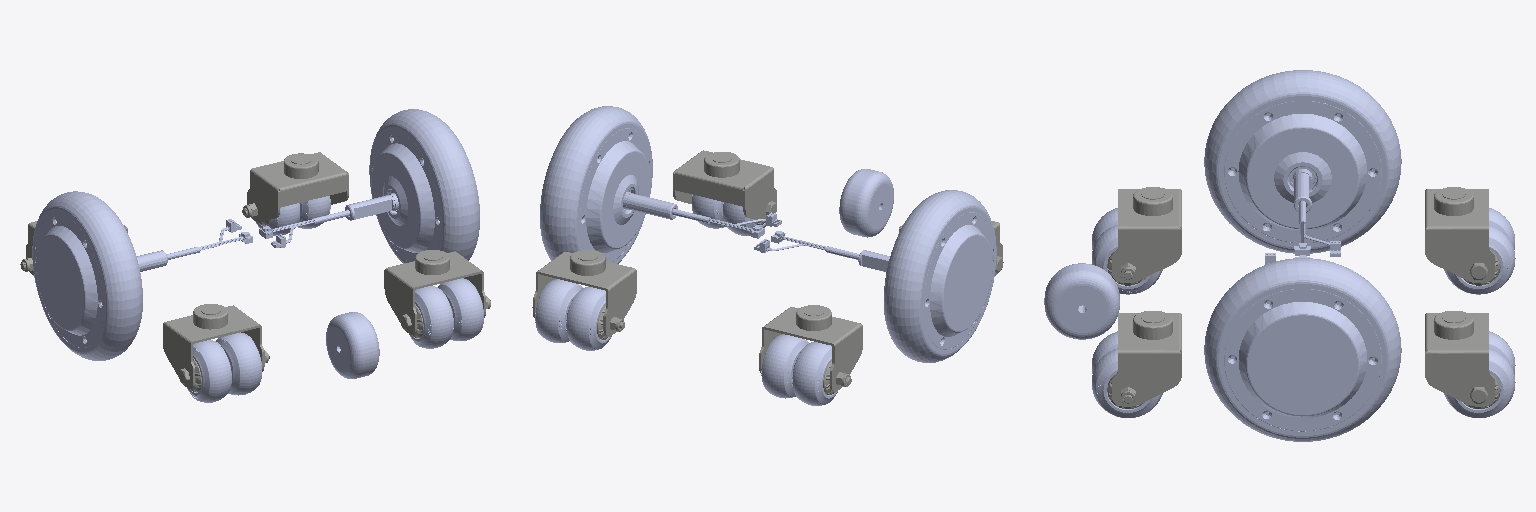
robot.urdf — apollo_2_0:
<?xml version="1.0" encoding="utf-8"?>
<!-- This URDF was automatically created by SolidWorks to URDF Exporter! Originally created by [author] ([email redacted]) 
     Commit Version: 1.6.0-4-g7f85cfe  Build Version: 1.6.7995.38578
     For more information, please see http://wiki.ros.org/sw_urdf_exporter -->
<robot
  name="apollo_2_0">
  <joint name="base_footprint_joint" type="fixed">
        <parent link="base_link"/>
        <child link="base_footprint"/>
        <origin xyz="0 0 0" rpy="0 0 -1.5708"/>            <!--Correcting the front side of the robot-->
    </joint>

  <link name="base_footprint"></link>
    
  <link
    name="base_link">
    <inertial>
      <origin
        xyz="-0.000251634559923452 -0.00489161046227445 0.176189848701967"
        rpy="0 0 0" />
      <mass
        value="5.39183386142453" />
      <inertia
        ixx="0.0653015701694035"
        ixy="-8.64253723115378E-06"
        ixz="-6.51180990379735E-06"
        iyy="0.0942320250294485"
        iyz="0.000637337135491754"
        izz="0.149833933937034" />
    </inertial>
    <visual>
      <origin
        xyz="0 0 0"
        rpy="0 0 0" />
      <geometry>
        <mesh
          filename="package://apollo_2_0/meshes/base_link.STL" />
      </geometry>
      <material
        name="">
        <color
          rgba="0.792156862745098 0.819607843137255 0.933333333333333 1" />
      </material>
    </visual>
    <collision>
      <origin
        xyz="0 0 0"
        rpy="0 0 0" />
      <geometry>
        <mesh
          filename="package://apollo_2_0/meshes/base_link.STL" />
      </geometry>
    </collision>
  </link>
  <link
    name="right_wheel">
    <inertial>
      <origin
        xyz="0.00126496874699064 4.06522492759047E-05 -1.13591736248461E-05"
        rpy="0 0 0" />
      <mass
        value="0.909836388239155" />
      <inertia
        ixx="0.00274407833875377"
        ixy="2.25881499386519E-07"
        ixz="-5.42429356552384E-09"
        iyy="0.00146592296633533"
        iyz="2.8800515088264E-11"
        izz="0.00146592879898653" />
    </inertial>
    <visual>
      <origin
        xyz="0 0 0"
        rpy="0 0 0" />
      <geometry>
        <mesh
          filename="package://apollo_2_0/meshes/left_wheel.STL" />
      </geometry>
      <material
        name="">
        <color
          rgba="0.792156862745098 0.819607843137255 0.933333333333333 1" />
      </material>
    </visual>
    <collision>
      <origin
        xyz="0 0 0"
        rpy="0 0 0" />
      <geometry>
        <mesh
          filename="package://apollo_2_0/meshes/left_wheel.STL" />
      </geometry>
    </collision>
  </link>
  <joint
    name="rw"
    type="continuous">
    <origin
      xyz="-0.1915 0 0.084999"
      rpy="0 0 0" />
    <parent
      link="base_link" />
    <child
      link="right_wheel" />
    <axis
      xyz="1 0 0" />
  </joint>
  <link
    name="left_wheel">
    <inertial>
      <origin
        xyz="-0.00126496985318234 -4.06511032513012E-05 -1.13612112264821E-05"
        rpy="0 0 0" />
      <mass
        value="0.909836337893845" />
      <inertia
        ixx="0.0027440782430291"
        ixy="2.25879298478987E-07"
        ixz="5.42818709832004E-09"
        iyy="0.00146592289358935"
        iyz="-6.96161465323051E-11"
        izz="0.0014659287755659" />
    </inertial>
    <visual>
      <origin
        xyz="0 0 0"
        rpy="0 0 0" />
      <geometry>
        <mesh
          filename="package://apollo_2_0/meshes/right_wheel.STL" />
      </geometry>
      <material
        name="">
        <color
          rgba="0.792156862745098 0.819607843137255 0.933333333333333 1" />
      </material>
    </visual>
    <collision>
      <origin
        xyz="0 0 0"
        rpy="0 0 0" />
      <geometry>
        <mesh
          filename="package://apollo_2_0/meshes/right_wheel.STL" />
      </geometry>
    </collision>
  </link>
  <joint
    name="lw"
    type="continuous">
    <origin
      xyz="0.1915 0 0.084999"
      rpy="0 0 0" />
    <parent
      link="base_link" />
    <child
      link="left_wheel" />
    <axis
      xyz="1 0 0" />
  </joint>
  <link
    name="front_wheel">
    <inertial>
      <origin
        xyz="-4.72988234130956E-18 2.77555756156289E-17 0"
        rpy="0 0 0" />
      <mass
        value="0.0966099959149694" />
      <inertia
        ixx="4.8508259037204E-05"
        ixy="-4.09399257839579E-22"
        ixz="1.3733482210909E-22"
        iyy="3.16338885532163E-05"
        iyz="4.37633689414722E-22"
        izz="3.16338885532163E-05" />
    </inertial>
    <visual>
      <origin
        xyz="0 0 0"
        rpy="0 0 0" />
      <geometry>
        <mesh
          filename="package://apollo_2_0/meshes/front_wheel.STL" />
      </geometry>
      <material
        name="">
        <color
          rgba="0.792156862745098 0.819607843137255 0.933333333333333 1" />
      </material>
    </visual>
    <collision>
      <origin
        xyz="0 0 0"
        rpy="0 0 0" />
      <geometry>
        <mesh
          filename="package://apollo_2_0/meshes/front_wheel.STL" />
      </geometry>
    </collision>
  </link>
  <joint
    name="fw"
    type="continuous">
    <origin
      xyz="0 -0.19 0.04179"
      rpy="0 0 0" />
    <parent
      link="base_link" />
    <child
      link="front_wheel" />
    <axis
      xyz="1 0 0" />
  </joint>
  <link
    name="castor_wheel_1">
    <inertial>
      <origin
        xyz="0.000420363773674909 -0.00908122961024421 -0.034311189949967"
        rpy="0 0 0" />
      <mass
        value="0.0540669980927754" />
      <inertia
        ixx="1.78511368330048E-05"
        ixy="-2.00632174983049E-09"
        ixz="1.11396792287673E-09"
        iyy="3.91611994966722E-05"
        iyz="-1.46337604915237E-06"
        izz="4.11536949075926E-05" />
    </inertial>
    <visual>
      <origin
        xyz="0 0 0"
        rpy="0 0 0" />
      <geometry>
        <mesh
          filename="package://apollo_2_0/meshes/castor_wheel_1.STL" />
      </geometry>
      <material
        name="">
        <color
          rgba="0.666666666666667 0.666666666666667 0.654901960784314 1" />
      </material>
    </visual>
    <collision>
      <origin
        xyz="0 0 0"
        rpy="0 0 0" />
      <geometry>
        <mesh
          filename="package://apollo_2_0/meshes/castor_wheel_1.STL" />
      </geometry>
    </collision>
  </link>
  <joint
    name="castorwheel1top"
    type="continuous">
    <origin
      xyz="0.126 -0.129 0.0852"
      rpy="0 0 0" />
    <parent
      link="base_link" />
    <child
      link="castor_wheel_1" />
    <axis
      xyz="0 0 -1" />
    <dynamics damping="0.02" friction="0.02"/>
  </joint>
  <link
    name="castor_wheel_1_wheel">
    <inertial>
      <origin
        xyz="-1.35554900637658E-11 -3.58349909079791E-07 -2.10336712023335E-09"
        rpy="0 0 0" />
      <mass
        value="0.151688158407235" />
      <inertia
        ixx="7.27266749297572E-05"
        ixy="1.85681267293845E-12"
        ixz="-3.08329322182269E-10"
        iyy="4.52531429305757E-05"
        iyz="-2.57653716208225E-10"
        izz="4.52956309660314E-05" />
    </inertial>
    <visual>
      <origin
        xyz="0 0 0"
        rpy="0 0 0" />
      <geometry>
        <mesh
          filename="package://apollo_2_0/meshes/castor_wheel_1_wheel.STL" />
      </geometry>
      <material
        name="">
        <color
          rgba="0.792156862745098 0.819607843137255 0.933333333333333 1" />
      </material>
    </visual>
    <collision>
      <origin
        xyz="0 0 0"
        rpy="0 0 0" />
      <geometry>
        <mesh
          filename="package://apollo_2_0/meshes/castor_wheel_1_wheel.STL" />
      </geometry>
    </collision>
  </link>
  <joint
    name="castorwheel1wheel"
    type="continuous">
    <origin
      xyz="0 -0.0215 -0.05365"
      rpy="0 0 0" />
    <parent
      link="castor_wheel_1" />
    <child
      link="castor_wheel_1_wheel" />
    <axis
      xyz="1 0 0" />
  </joint>
  <link
    name="castor_wheel_2">
    <inertial>
      <origin
        xyz="0.000420363773674826 -0.00908122961024424 -0.0343111899499671"
        rpy="0 0 0" />
      <mass
        value="0.0540669980927752" />
      <inertia
        ixx="1.78511368330048E-05"
        ixy="-2.00632174983419E-09"
        ixz="1.11396792290523E-09"
        iyy="3.91611994966721E-05"
        iyz="-1.46337604915237E-06"
        izz="4.11536949075924E-05" />
    </inertial>
    <visual>
      <origin
        xyz="0 0 0"
        rpy="0 0 0" />
      <geometry>
        <mesh
          filename="package://apollo_2_0/meshes/castor_wheel_2.STL" />
      </geometry>
      <material
        name="">
        <color
          rgba="0.666666666666667 0.666666666666667 0.654901960784314 1" />
      </material>
    </visual>
    <collision>
      <origin
        xyz="0 0 0"
        rpy="0 0 0" />
      <geometry>
        <mesh
          filename="package://apollo_2_0/meshes/castor_wheel_2.STL" />
      </geometry>
    </collision>
  </link>
  <joint
    name="castorwheel2top"
    type="continuous">
    <origin
      xyz="-0.126 -0.129 0.0852"
      rpy="0 0 0" />
    <parent
      link="base_link" />
    <child
      link="castor_wheel_2" />
    <axis
      xyz="0 0 -1" />
    <dynamics damping="0.02" friction="0.02"/>
  </joint>
  <link
    name="castor_wheel_2_wheel">
    <inertial>
      <origin
        xyz="-1.38122846493616E-11 -2.1034017028132E-09 3.58349746725287E-07"
        rpy="0 0 0" />
      <mass
        value="0.151688158408623" />
      <inertia
        ixx="7.2726674930244E-05"
        ixy="-3.08329382306512E-10"
        ixz="-1.85709610483703E-12"
        iyy="4.52956309666694E-05"
        iyz="2.57653617253462E-10"
        izz="4.5253142930769E-05" />
    </inertial>
    <visual>
      <origin
        xyz="0 0 0"
        rpy="0 0 0" />
      <geometry>
        <mesh
          filename="package://apollo_2_0/meshes/castor_wheel_2_wheel.STL" />
      </geometry>
      <material
        name="">
        <color
          rgba="0.792156862745098 0.819607843137255 0.933333333333333 1" />
      </material>
    </visual>
    <collision>
      <origin
        xyz="0 0 0"
        rpy="0 0 0" />
      <geometry>
        <mesh
          filename="package://apollo_2_0/meshes/castor_wheel_2_wheel.STL" />
      </geometry>
    </collision>
  </link>
  <joint
    name="castorwheel2wheel"
    type="continuous">
    <origin
      xyz="0 -0.0215 -0.05365"
      rpy="0 0 0" />
    <parent
      link="castor_wheel_2" />
    <child
      link="castor_wheel_2_wheel" />
    <axis
      xyz="1 0 0" />
  </joint>
  <link
    name="castor_wheel_3">
    <inertial>
      <origin
        xyz="-0.000420361795312657 0.00908123288506413 -0.0343111899499671"
        rpy="0 0 0" />
      <mass
        value="0.0540669980927752" />
      <inertia
        ixx="1.78511368330048E-05"
        ixy="-2.00632174983138E-09"
        ixz="-1.11460786701919E-09"
        iyy="3.91611994966721E-05"
        iyz="1.4633762781936E-06"
        izz="4.11536949075924E-05" />
    </inertial>
    <visual>
      <origin
        xyz="0 0 0"
        rpy="0 0 0" />
      <geometry>
        <mesh
          filename="package://apollo_2_0/meshes/castor_wheel_3.STL" />
      </geometry>
      <material
        name="">
        <color
          rgba="0.666666666666667 0.666666666666667 0.654901960784314 1" />
      </material>
    </visual>
    <collision>
      <origin
        xyz="0 0 0"
        rpy="0 0 0" />
      <geometry>
        <mesh
          filename="package://apollo_2_0/meshes/castor_wheel_3.STL" />
      </geometry>
    </collision>
  </link>
  <joint
    name="castorwheel3top"
    type="continuous">
    <origin
      xyz="0.126 0.13 0.0852"
      rpy="0 0 0" />
    <parent
      link="base_link" />
    <child
      link="castor_wheel_3" />
    <axis
      xyz="0 0 1" />
    <dynamics damping="0.02" friction="0.02"/>
  </joint>
  <link
    name="castor_wheel_3_wheel">
    <inertial>
      <origin
        xyz="-1.35968458714331E-11 -3.58350081691716E-07 -2.10333261658341E-09"
        rpy="0 0 0" />
      <mass
        value="0.151688158405763" />
      <inertia
        ixx="7.27266749292407E-05"
        ixy="1.85651169078717E-12"
        ixz="-3.0832926164698E-10"
        iyy="4.52531429303733E-05"
        iyz="-2.57653815973351E-10"
        izz="4.52956309653523E-05" />
    </inertial>
    <visual>
      <origin
        xyz="0 0 0"
        rpy="0 0 0" />
      <geometry>
        <mesh
          filename="package://apollo_2_0/meshes/castor_wheel_3_wheel.STL" />
      </geometry>
      <material
        name="">
        <color
          rgba="0.792156862745098 0.819607843137255 0.933333333333333 1" />
      </material>
    </visual>
    <collision>
      <origin
        xyz="0 0 0"
        rpy="0 0 0" />
      <geometry>
        <mesh
          filename="package://apollo_2_0/meshes/castor_wheel_3_wheel.STL" />
      </geometry>
    </collision>
  </link>
  <joint
    name="castorwheel3wheel"
    type="continuous">
    <origin
      xyz="0 0.0215 -0.05365"
      rpy="0 0 0" />
    <parent
      link="castor_wheel_3" />
    <child
      link="castor_wheel_3_wheel" />
    <axis
      xyz="1 0 0" />
  </joint>
  <link
    name="castor_wheel_4">
    <inertial>
      <origin
        xyz="-0.000420361795312657 0.00908123288506413 -0.0343111899499671"
        rpy="0 0 0" />
      <mass
        value="0.0540669980927753" />
      <inertia
        ixx="1.78511368330048E-05"
        ixy="-2.00632174981813E-09"
        ixz="-1.11460786706816E-09"
        iyy="3.91611994966723E-05"
        iyz="1.46337627819361E-06"
        izz="4.11536949075926E-05" />
    </inertial>
    <visual>
      <origin
        xyz="0 0 0"
        rpy="0 0 0" />
      <geometry>
        <mesh
          filename="package://apollo_2_0/meshes/castor_wheel_4.STL" />
      </geometry>
      <material
        name="">
        <color
          rgba="0.666666666666667 0.666666666666667 0.654901960784314 1" />
      </material>
    </visual>
    <collision>
      <origin
        xyz="0 0 0"
        rpy="0 0 0" />
      <geometry>
        <mesh
          filename="package://apollo_2_0/meshes/castor_wheel_4.STL" />
      </geometry>
    </collision>
  </link>
  <joint
    name="castorwheel4top"
    type="continuous">
    <origin
      xyz="-0.126 0.13 0.0852"
      rpy="0 0 0" />
    <parent
      link="base_link" />
    <child
      link="castor_wheel_4" />
    <axis
      xyz="0 0 1" />
    <dynamics damping="0.02" friction="0.02"/>
  </joint>
  <link
    name="castor_wheel_4_wheel">
    <inertial>
      <origin
        xyz="-1.36090583247039E-11 -3.58350073892399E-07 -2.10333425676446E-09"
        rpy="0 0 0" />
      <mass
        value="0.151688158405829" />
      <inertia
        ixx="7.27266749292642E-05"
        ixy="1.85652502616378E-12"
        ixz="-3.08329264491447E-10"
        iyy="4.52531429303824E-05"
        iyz="-2.57653811217984E-10"
        izz="4.52956309653829E-05" />
    </inertial>
    <visual>
      <origin
        xyz="0 0 0"
        rpy="0 0 0" />
      <geometry>
        <mesh
          filename="package://apollo_2_0/meshes/castor_wheel_4_wheel.STL" />
      </geometry>
      <material
        name="">
        <color
          rgba="0.792156862745098 0.819607843137255 0.933333333333333 1" />
      </material>
    </visual>
    <collision>
      <origin
        xyz="0 0 0"
        rpy="0 0 0" />
      <geometry>
        <mesh
          filename="package://apollo_2_0/meshes/castor_wheel_4_wheel.STL" />
      </geometry>
    </collision>
  </link>
  <joint
    name="castorwheel4wheel"
    type="continuous">
    <origin
      xyz="0 0.0215 -0.05365"
      rpy="0 0 0" />
    <parent
      link="castor_wheel_4" />
    <child
      link="castor_wheel_4_wheel" />
    <axis
      xyz="1 0 0" />
  </joint>
</robot>

--- Render facts (derived) ---
3 views of the same robot in one strip: view 1: azimuth 30°, elevation 25°; view 2: azimuth 150°, elevation 25°; view 3: azimuth 270°, elevation 25° (orthographic).
Robot: apollo_2_0 — 13 links, 12 joints (11 continuous, 1 fixed); root link base_link; default pose: all joints at 0.
Links seen in each view (by area): view 1: right_wheel, left_wheel, castor_wheel_3, castor_wheel_1, castor_wheel_2, castor_wheel_1_wheel, castor_wheel_2_wheel, front_wheel, castor_wheel_3_wheel; view 2: right_wheel, left_wheel, castor_wheel_1, castor_wheel_4, castor_wheel_3, castor_wheel_3_wheel, castor_wheel_4_wheel, front_wheel, castor_wheel_1_wheel; view 3: left_wheel, right_wheel, castor_wheel_4, castor_wheel_2, castor_wheel_1, castor_wheel_3, front_wheel, castor_wheel_3_wheel, castor_wheel_1_wheel, castor_wheel_4_wheel, castor_wheel_2_wheel.
Boxes of the visible links, x1,y1,x2,y2 form: right_wheel: (32,191,252,360); left_wheel: (259,109,479,263); castor_wheel_3: (242,152,348,225); castor_wheel_1: (384,250,490,337); castor_wheel_2: (163,304,269,391); castor_wheel_1_wheel: (409,278,483,348); castor_wheel_2_wheel: (187,332,261,402); front_wheel: (326,312,379,378); castor_wheel_3_wheel: (255,196,330,235); right_wheel: (754,190,996,362); left_wheel: (540,106,781,263); castor_wheel_1: (673,150,776,224); castor_wheel_4: (759,305,862,394); castor_wheel_3: (532,250,636,339); castor_wheel_3_wheel: (535,279,611,350); castor_wheel_4_wheel: (761,334,837,405); front_wheel: (839,169,893,237); castor_wheel_1_wheel: (692,195,765,235); left_wheel: (1204,253,1401,441); right_wheel: (1204,70,1401,256); castor_wheel_4: (1425,187,1499,285); castor_wheel_2: (1107,187,1181,285); castor_wheel_1: (1107,311,1181,408); castor_wheel_3: (1425,311,1499,408); front_wheel: (1044,263,1119,339); castor_wheel_3_wheel: (1444,331,1515,417); castor_wheel_1_wheel: (1092,331,1162,417); castor_wheel_4_wheel: (1444,208,1515,294); castor_wheel_2_wheel: (1092,208,1162,294).
Bounding box of the posed robot: 0.4452 × 0.4055 × 0.1699 m (x, y, z).
Meshes: 12 distinct files referenced, 11 mesh visuals loaded (11 binary STL); not drawn: 1 (reference not matched to a file when rendering).
